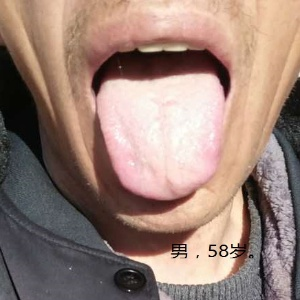st: (95, 91, 229, 201)
